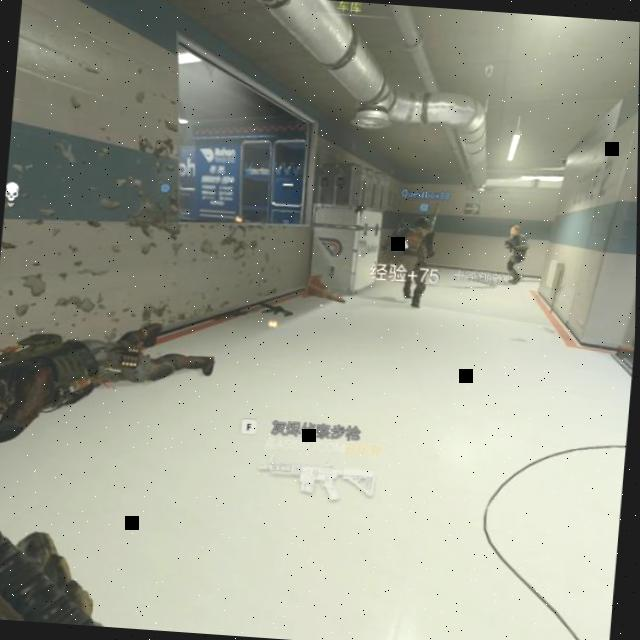MW2_body: (501, 224, 532, 286)
